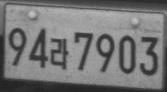0: (117, 34, 137, 74)
3: (138, 36, 159, 76)
4: (28, 27, 49, 68)
7: (73, 31, 93, 70)
9: (95, 33, 115, 73), (7, 26, 27, 65)
라: (50, 36, 69, 70)
